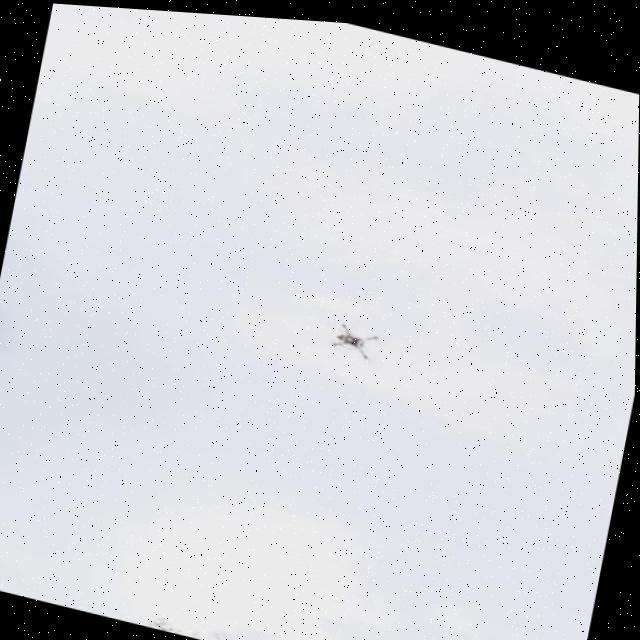drones: (308, 301, 396, 362)
